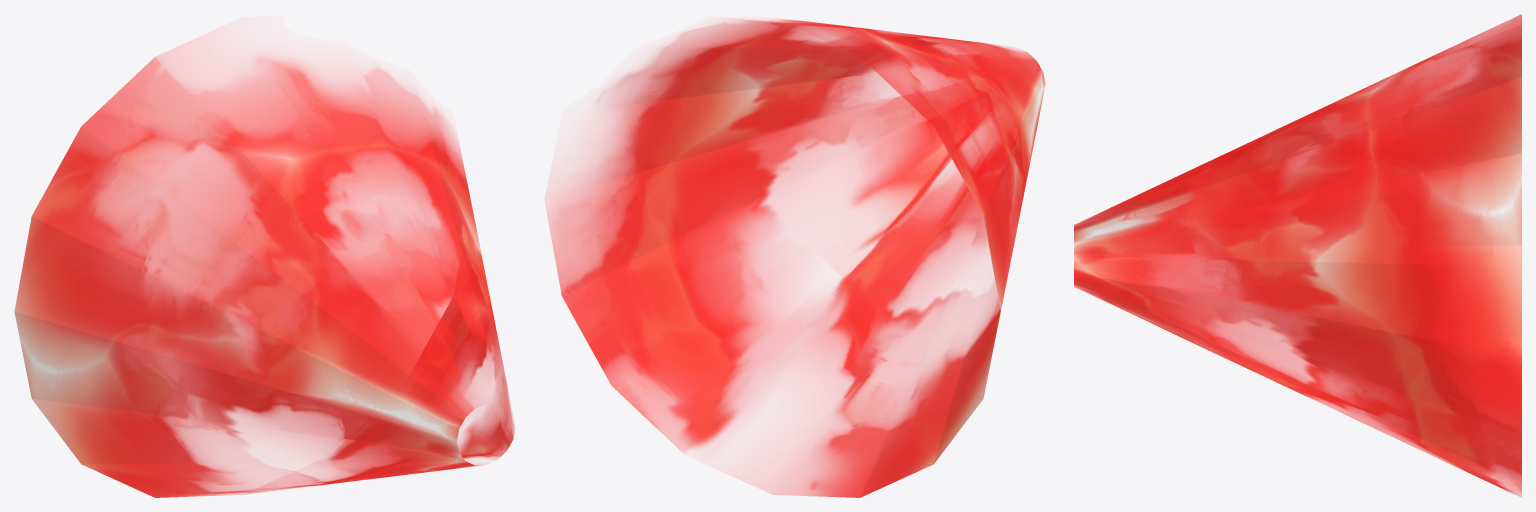
The model's file is fx_c016_sk2_proj_arena__fx_c016_sk2_cone_01.glb.
The picture shows the model from 3 angles, left to right: view 1: azimuth 30°, elevation 25°; view 2: azimuth 150°, elevation 25°; view 3: azimuth 270°, elevation 25°; orthographic projection. The views are drawn at different scales.
Visible parts, largest first — view 1: fx_c016_sk2_proj_arena; view 2: fx_c016_sk2_proj_arena; view 3: fx_c016_sk2_proj_arena.
Part boxes in pixels (x1,y1,x2,y2): fx_c016_sk2_proj_arena: (14, 46, 514, 497); fx_c016_sk2_proj_arena: (546, 19, 1045, 497); fx_c016_sk2_proj_arena: (1074, 14, 1521, 497).
Size of the model in its own units: 0.7184 by 0.7184 by 0.6642.
Materials: 1 (1 with a texture image).
